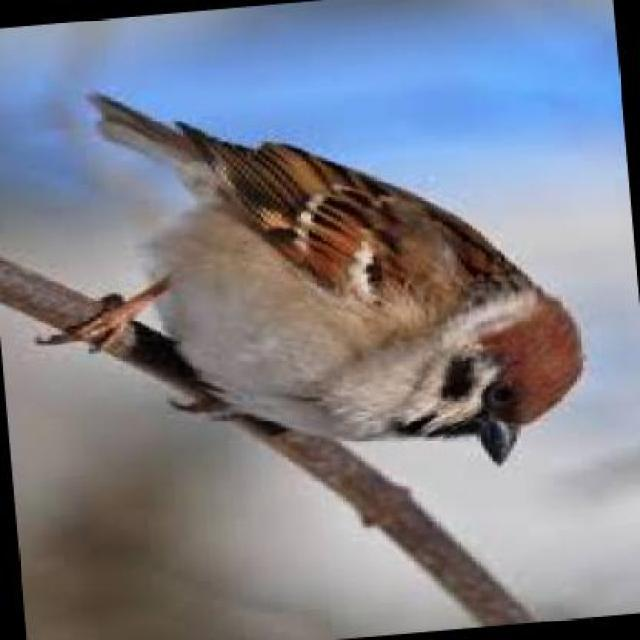Bird: (35, 85, 594, 472)
